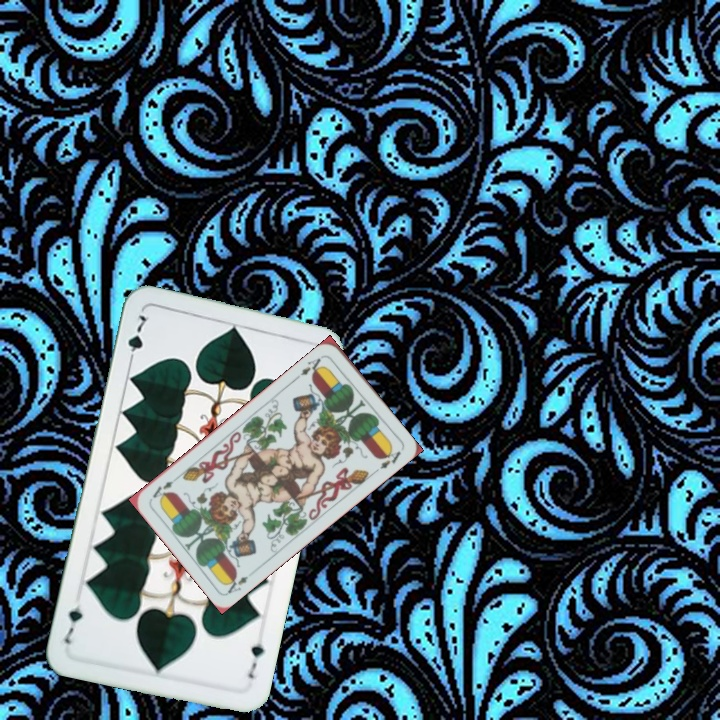EA: (292, 351, 327, 382), (220, 572, 251, 596)
G7: (124, 310, 151, 367), (244, 632, 267, 682)
